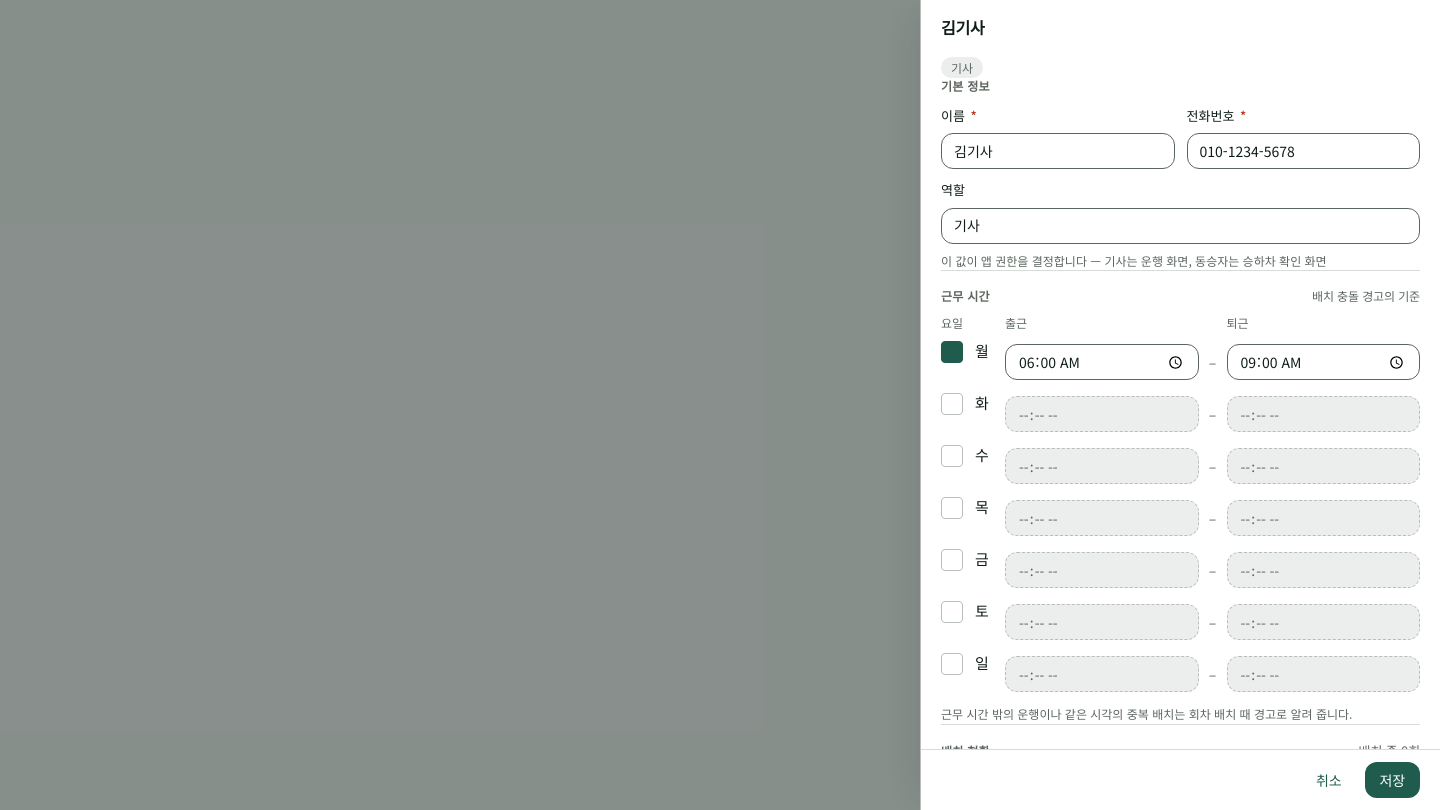
Test case: ManagerForm — 근무 시간 편집 › 시작이 끝보다 늦으면 이유를 보이고 저장을 막는다
Replace the text in the time field showing "06:00" with "10:00". click: (1102, 362)
box: x1=1005 y1=344 x2=1198 y2=380
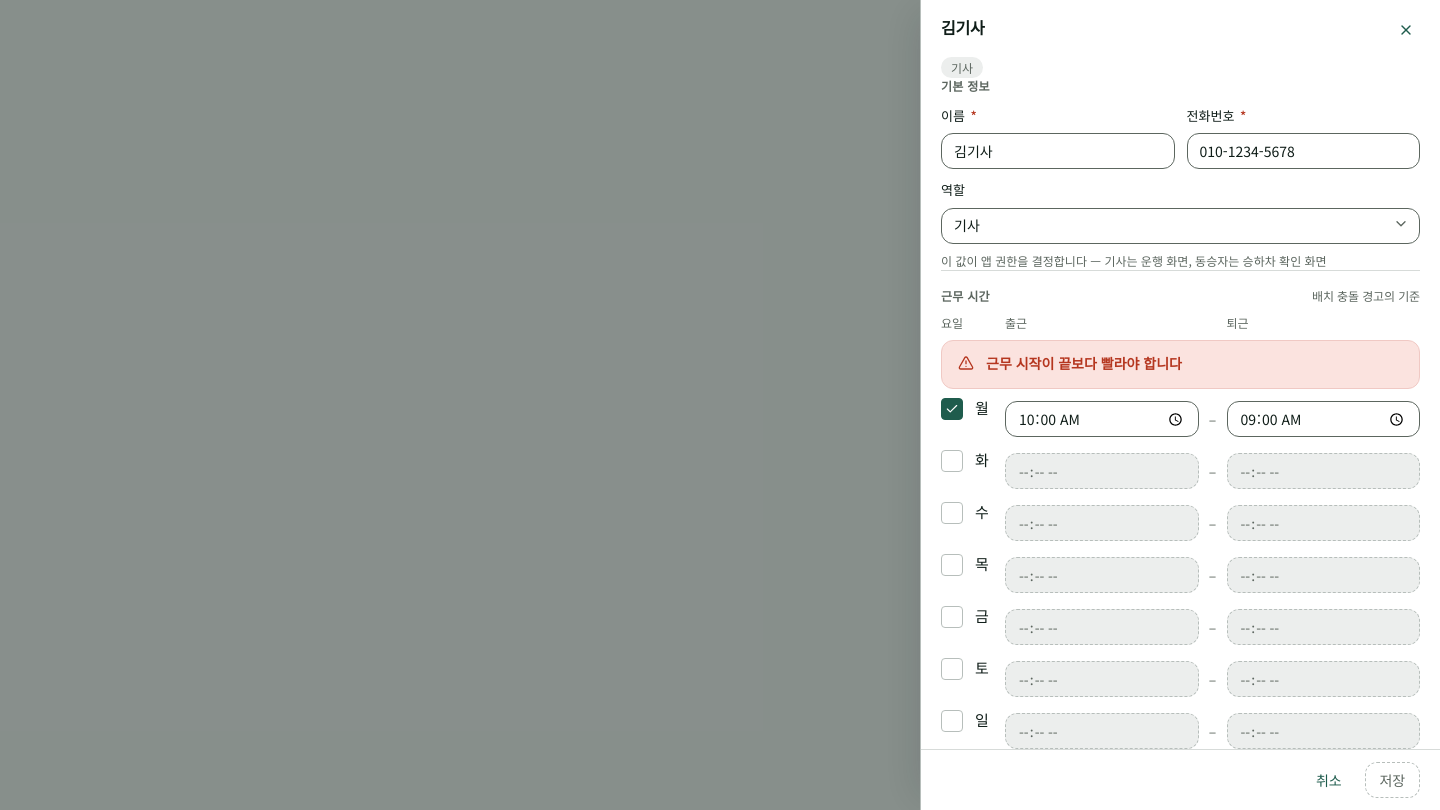
Check: the text "근무 시작이 끝보다 빨라야 합니다" is shown, box x1=986 y1=353 x2=1182 y2=373
Check: the button "저장" is disabled, box x1=1364 y1=762 x2=1420 y2=798
